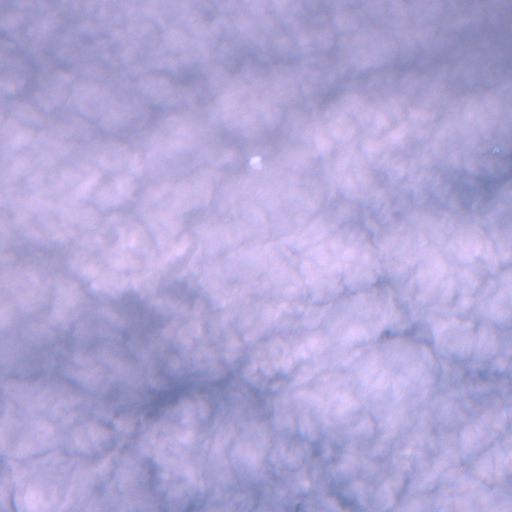Iceberg: (250, 157, 261, 168), (493, 148, 498, 152)
